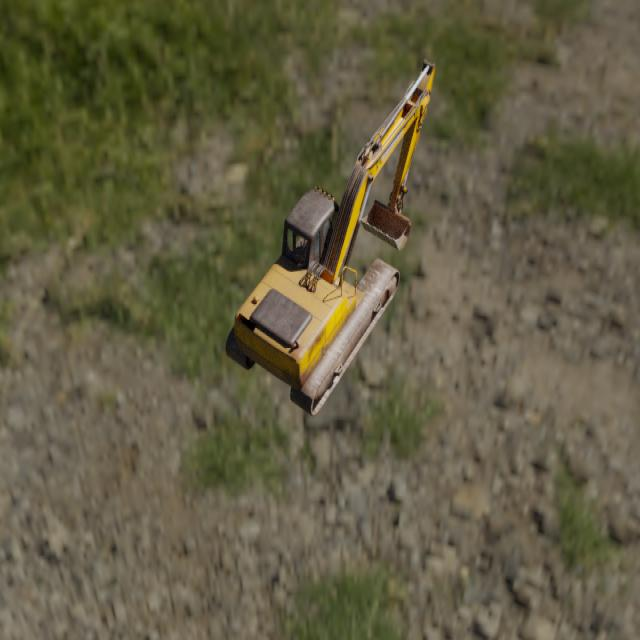excavator: (224, 59, 435, 416)
